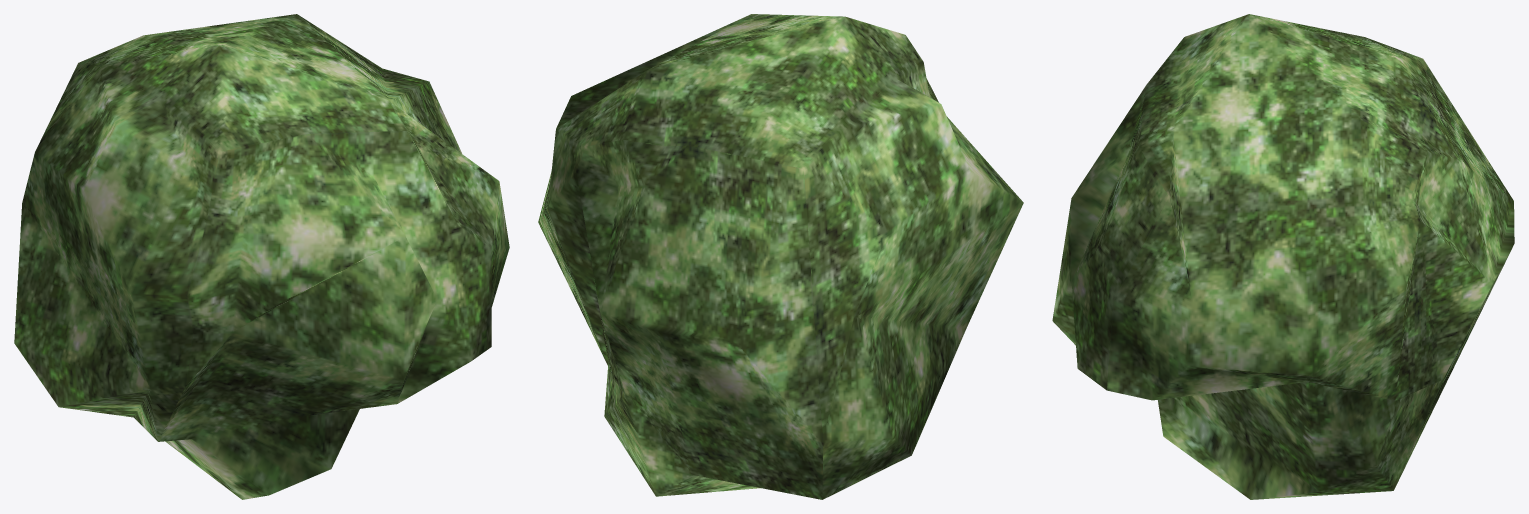
File: asteroid_acid_medium_s01_l2.fbx
The picture shows the model from 3 angles, left to right: view 1: azimuth 30°, elevation 25°; view 2: azimuth 150°, elevation 25°; view 3: azimuth 270°, elevation 25°; orthographic projection. The views are drawn at different scales.
Visible parts, largest first — view 1: mesh_node; view 2: mesh_node; view 3: mesh_node.
Boxes of the visible parts, x1,y1,x2,y2 form: mesh_node: [14, 14, 509, 499]; mesh_node: [538, 14, 1023, 499]; mesh_node: [1052, 14, 1514, 499].
Size of the model in its own units: 64.41 by 71.04 by 66.97.
1 material, 1 textured.
